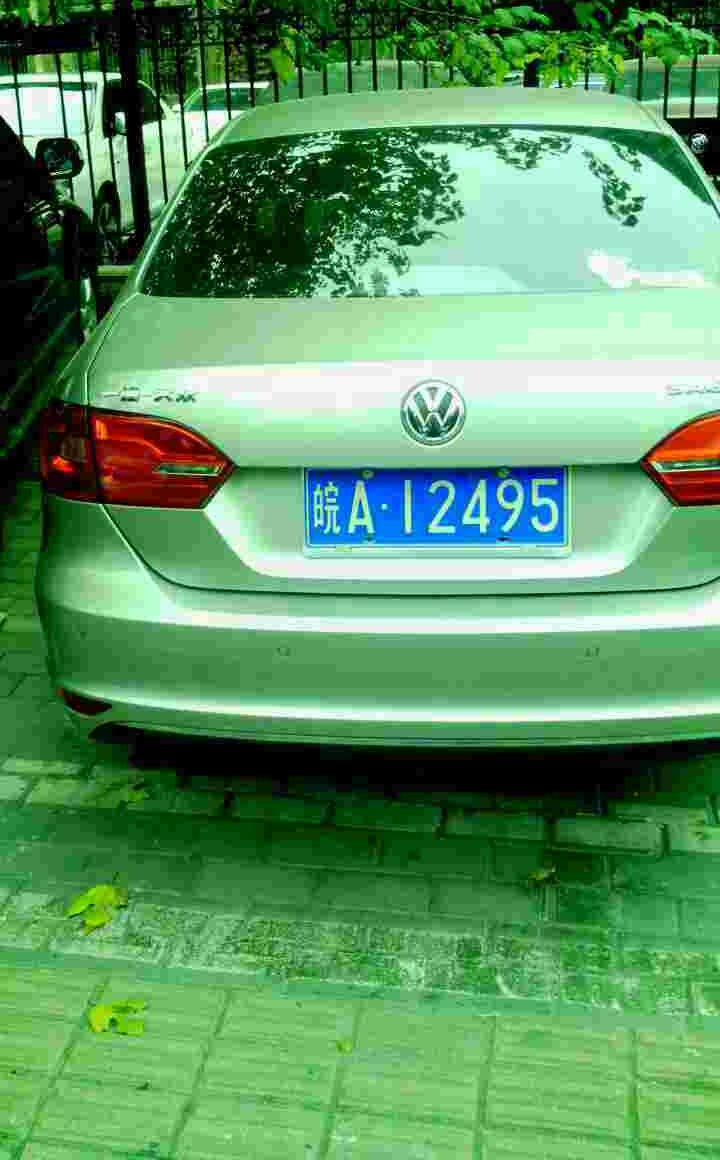plate: (306, 462, 574, 552)
